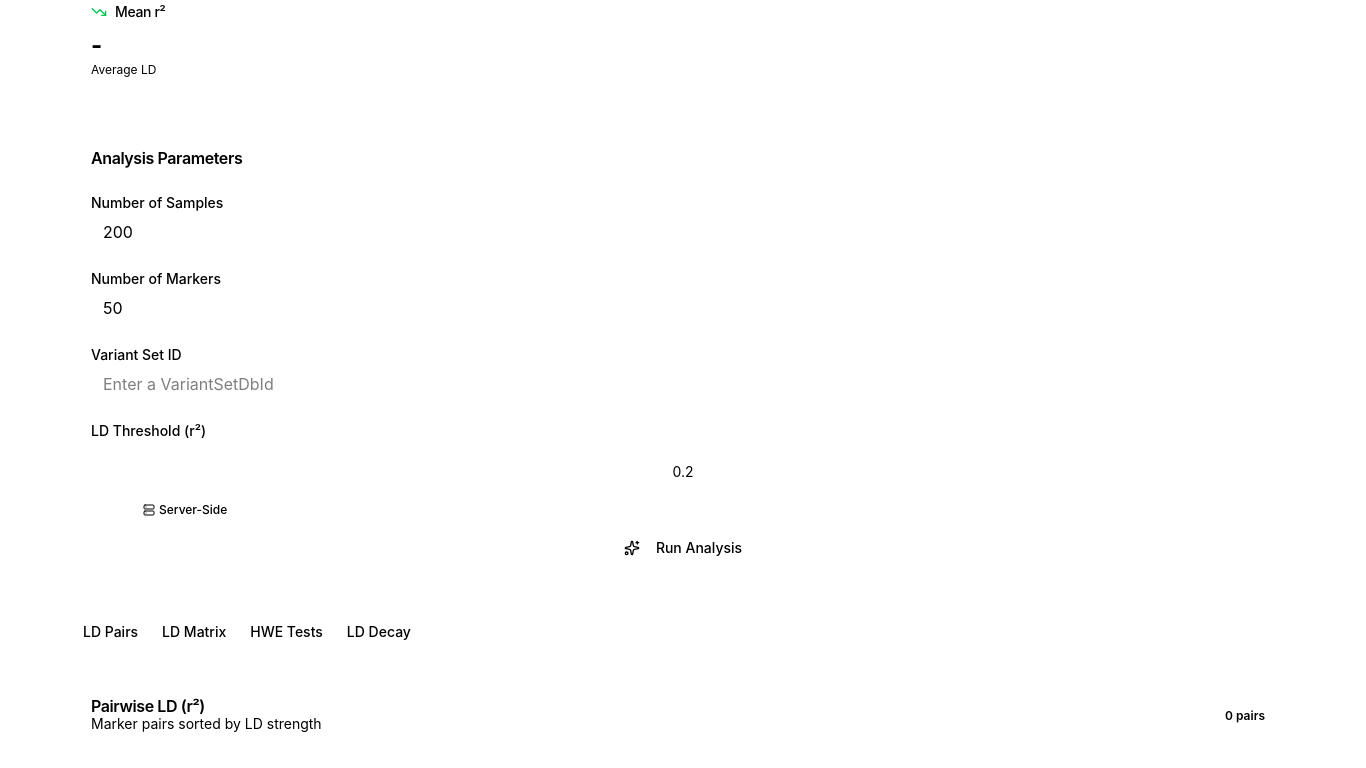
Test case: WasmLDAnalysis server mode › uses the direct LD API contract for server analysis
(page scrolled)
Type "vs-1" into the field labelled "Variant Set ID" at (683,384), box [91,366,1275,402]
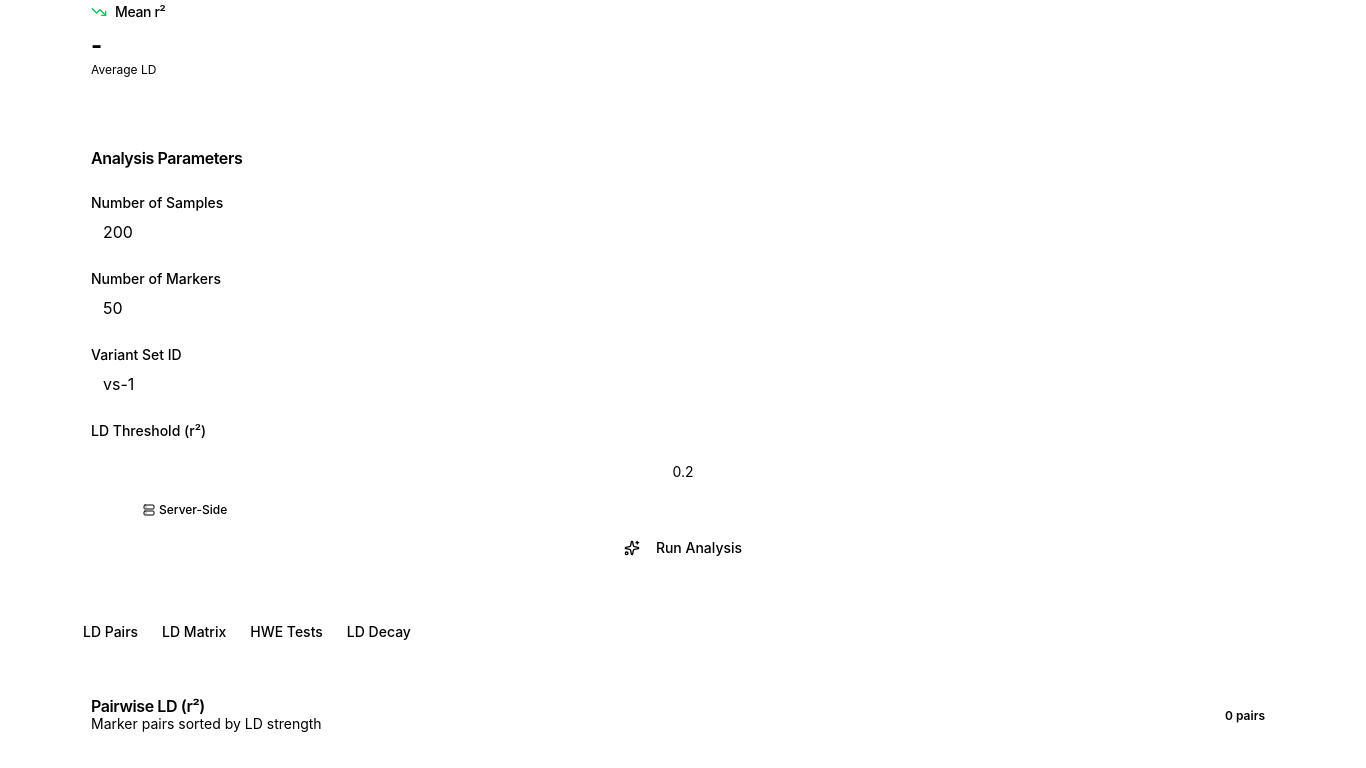
Click the button "Run Analysis" at (683,548), box [91,530,1275,566]
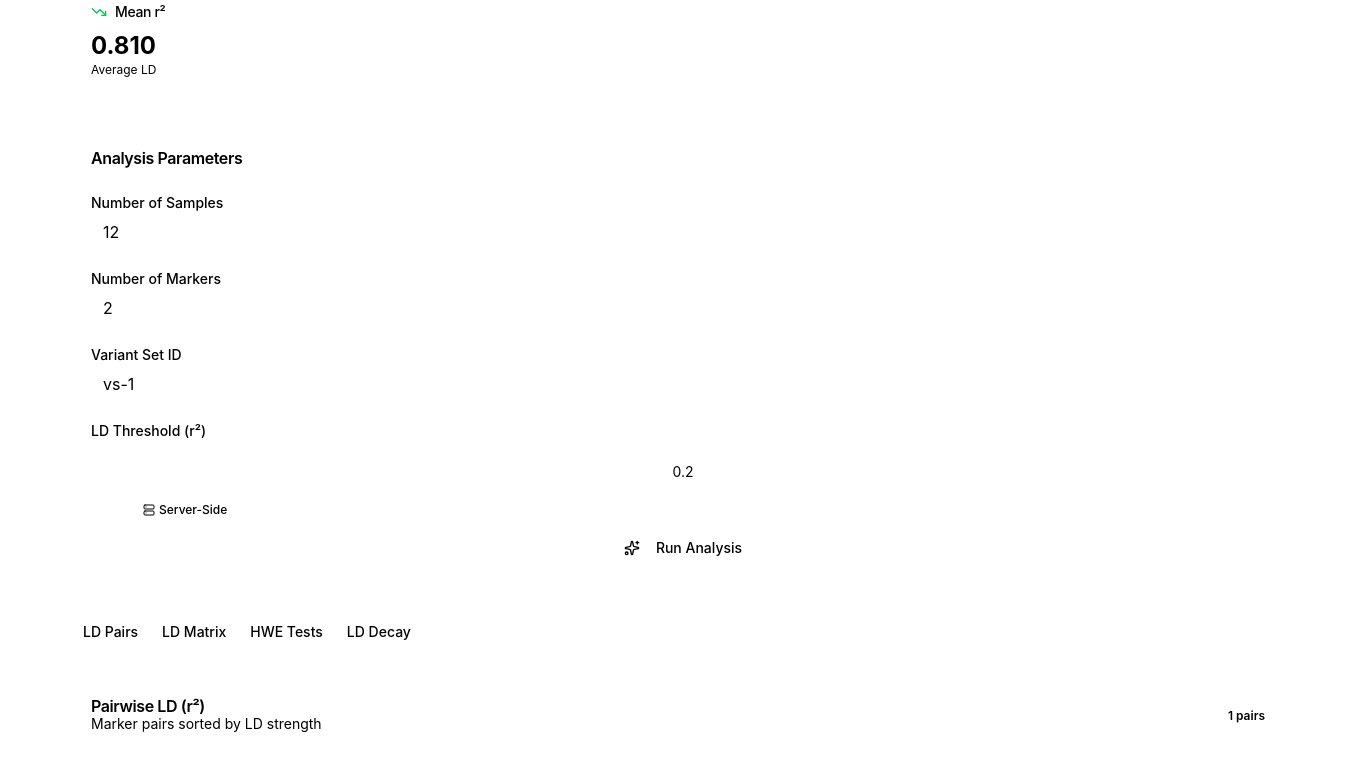
Check: the text "1 pairs" is shown, box [1228,708,1265,723]
Check: the text "0.810" is shown, box [91,31,156,60]
